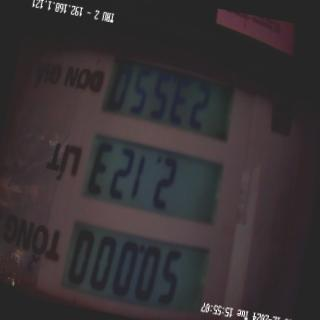screen: (52, 27, 252, 320)
